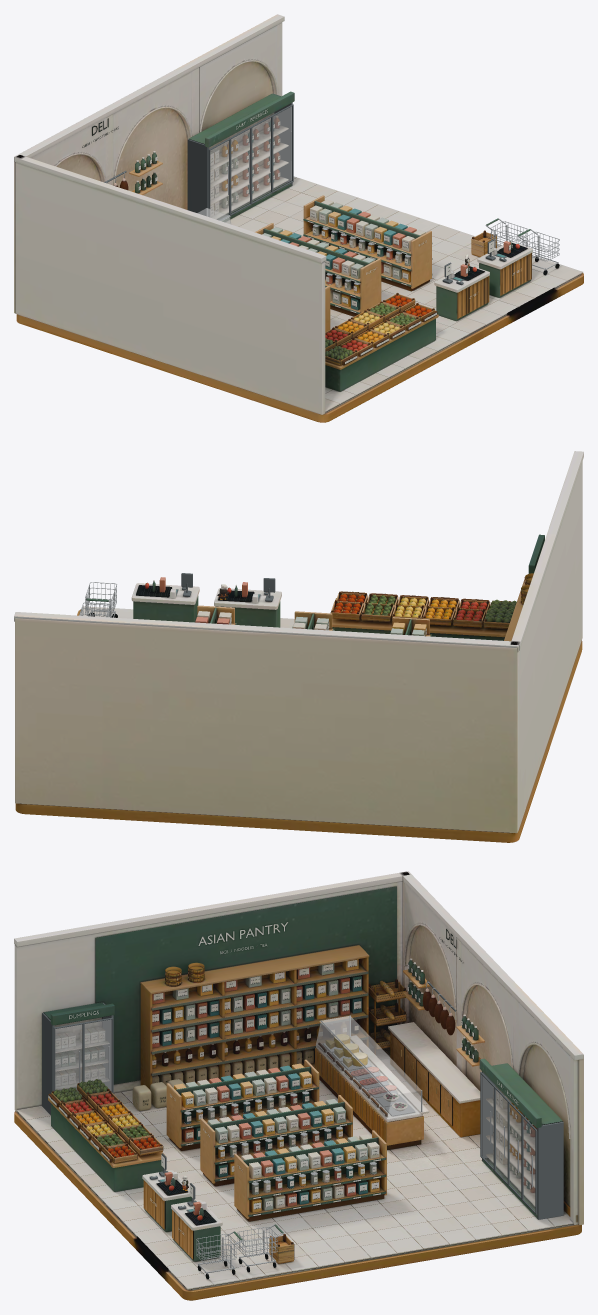
The model's file is supermarket.glb.
3 renders of one model, top to bottom at view 1: azimuth 30°, elevation 25°; view 2: azimuth 150°, elevation 25°; view 3: azimuth 270°, elevation 25°, orthographic. The views are drawn at different scales.
Visible parts, largest first — view 1: Baked supermarket architecture, Baked supermarket details, Live glass and reflective metal; view 2: Baked supermarket architecture, Baked supermarket details, Live glass and reflective metal; view 3: Baked supermarket architecture, Baked supermarket details, Live glass and reflective metal.
Part boxes in pixels (<box>): Baked supermarket architecture: <box>14,14,583,422</box>; Baked supermarket details: <box>92,116,583,411</box>; Live glass and reflective metal: <box>104,93,559,293</box>; Baked supermarket architecture: <box>14,451,583,842</box>; Baked supermarket details: <box>79,573,533,636</box>; Live glass and reflective metal: <box>79,573,275,617</box>; Baked supermarket architecture: <box>14,871,583,1300</box>; Baked supermarket details: <box>16,929,573,1289</box>; Live glass and reflective metal: <box>42,981,563,1274</box>.
Size of the model in its own units: 21.47 by 7.24 by 20.74.
Materials: 6 (2 with a texture image).
